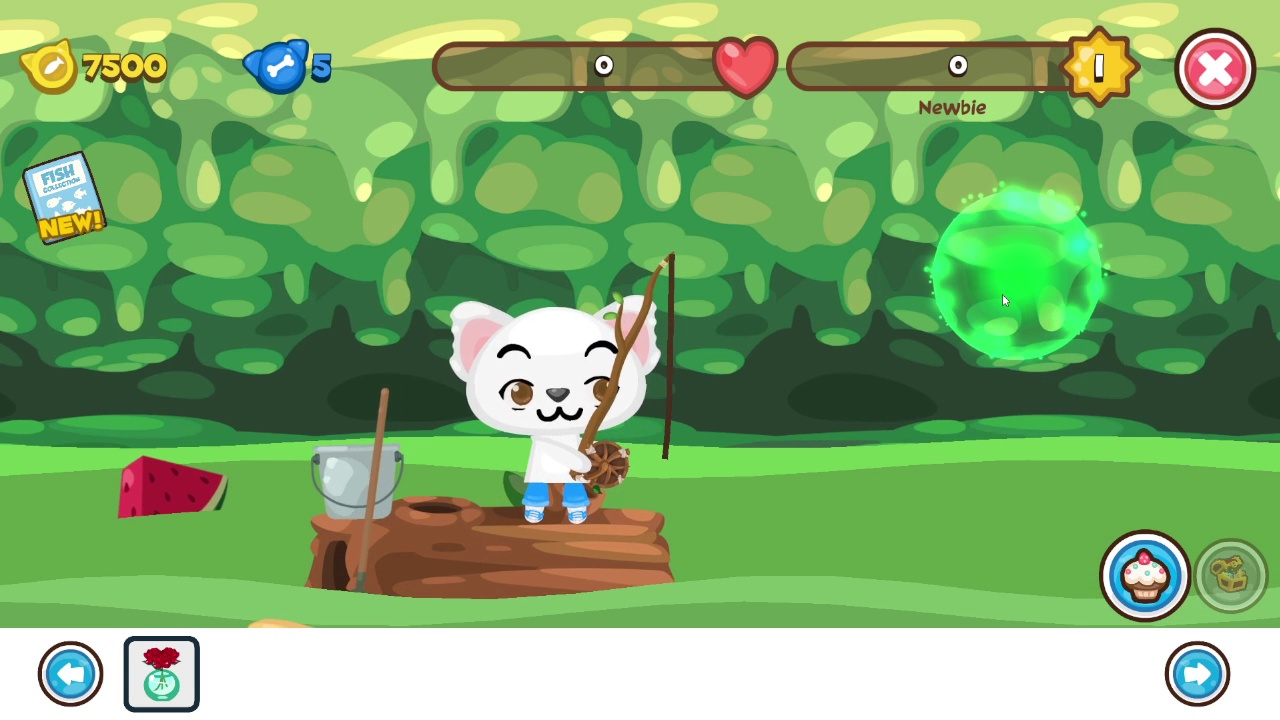point: (931, 194, 1106, 358)
